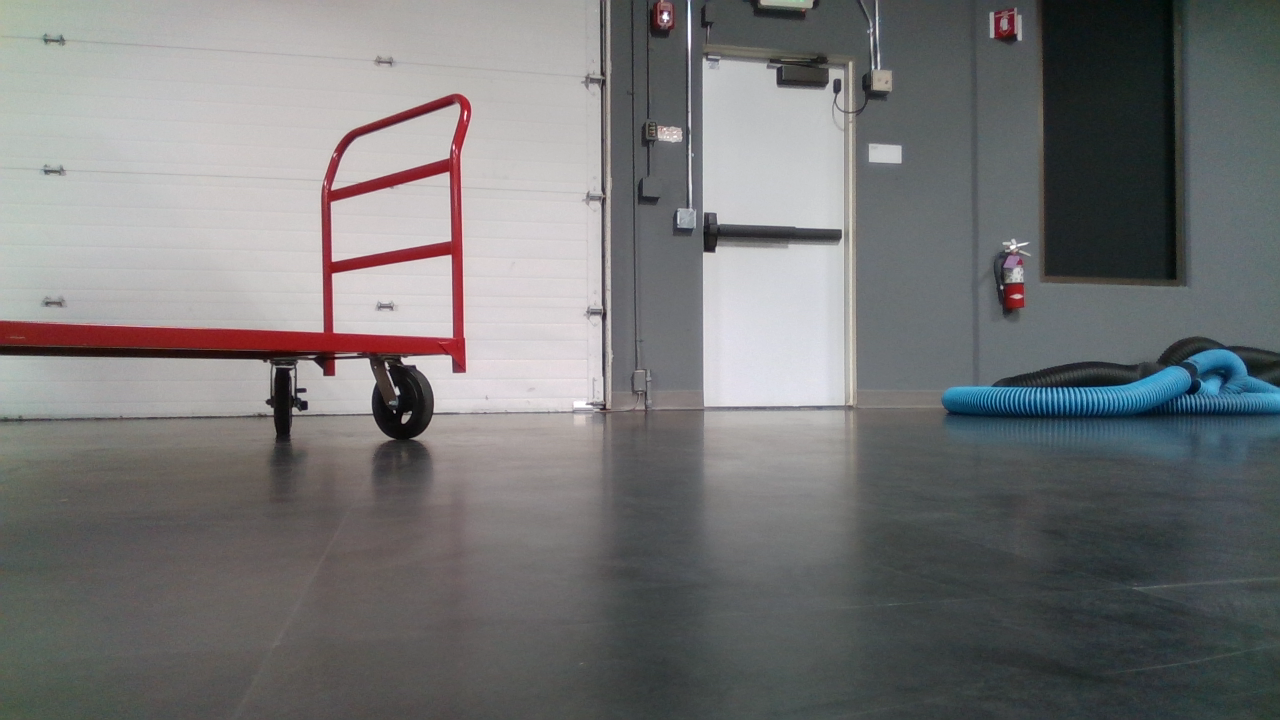Dolly: (0, 91, 476, 451)
Wheel: (370, 363, 436, 442), (269, 366, 297, 437)
